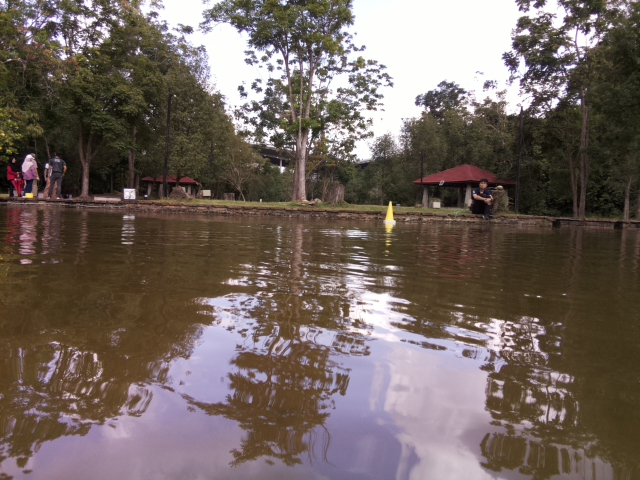checkpoint: (380, 198, 400, 225)
